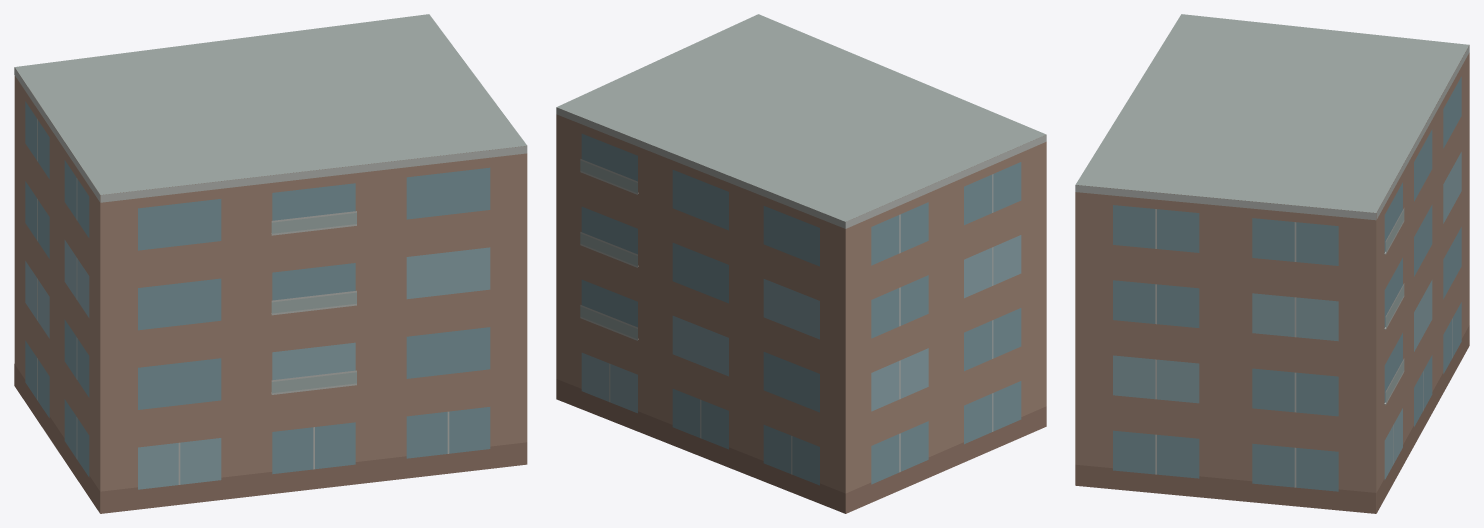
The model's file is survey-upis-32655047.glb.
3 views of the same model, side by side, from view 1: azimuth 30°, elevation 25°; view 2: azimuth 150°, elevation 25°; view 3: azimuth 270°, elevation 25° (orthographic). The views are drawn at different scales.
Visible parts, largest first — view 1: survey-upis-32655047.tmp; view 2: survey-upis-32655047.tmp; view 3: survey-upis-32655047.tmp.
Boxes of the visible parts, box(x1,y1,x2,y2) form: survey-upis-32655047.tmp: box(14, 14, 527, 513); survey-upis-32655047.tmp: box(556, 14, 1046, 513); survey-upis-32655047.tmp: box(1075, 14, 1469, 513).
Bounding box in the file's own units: 14.34 × 10.1 × 12.
